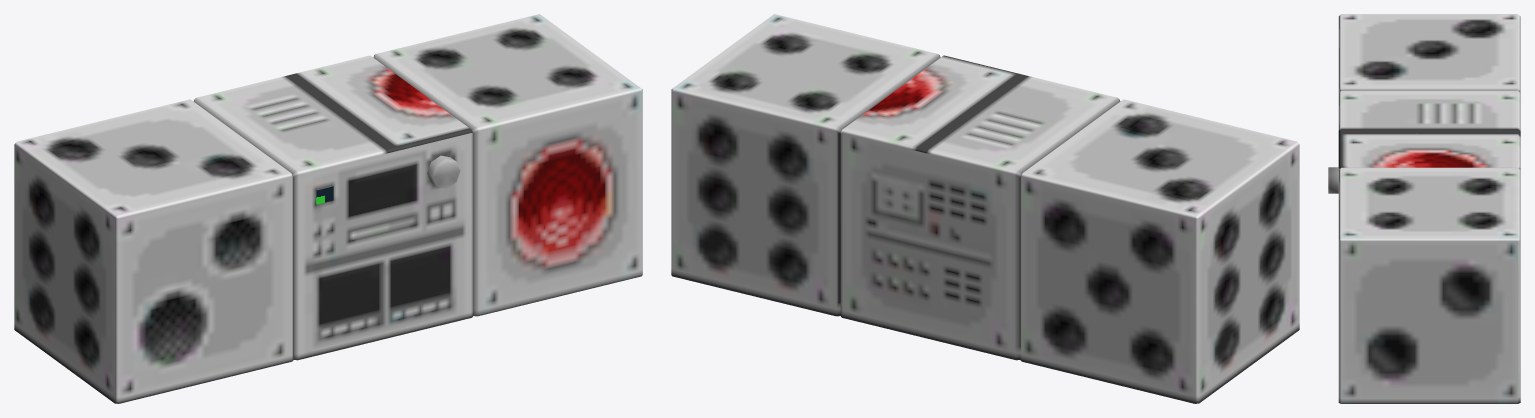
The model's file is int_msc_dice.dae.
3 renders of one model, left to right at view 1: azimuth 30°, elevation 25°; view 2: azimuth 150°, elevation 25°; view 3: azimuth 270°, elevation 25°, orthographic. The views are drawn at different scales.
Parts seen in each view (by area): view 1: int_msc_dice; view 2: int_msc_dice; view 3: int_msc_dice.
Part boxes in pixels (bbox=[...]): int_msc_dice: bbox=[14, 14, 642, 403]; int_msc_dice: bbox=[671, 14, 1299, 403]; int_msc_dice: bbox=[1328, 14, 1520, 403].
Size of the model in its own units: 53 by 18 by 19.02.
3 materials, 3 textured.
